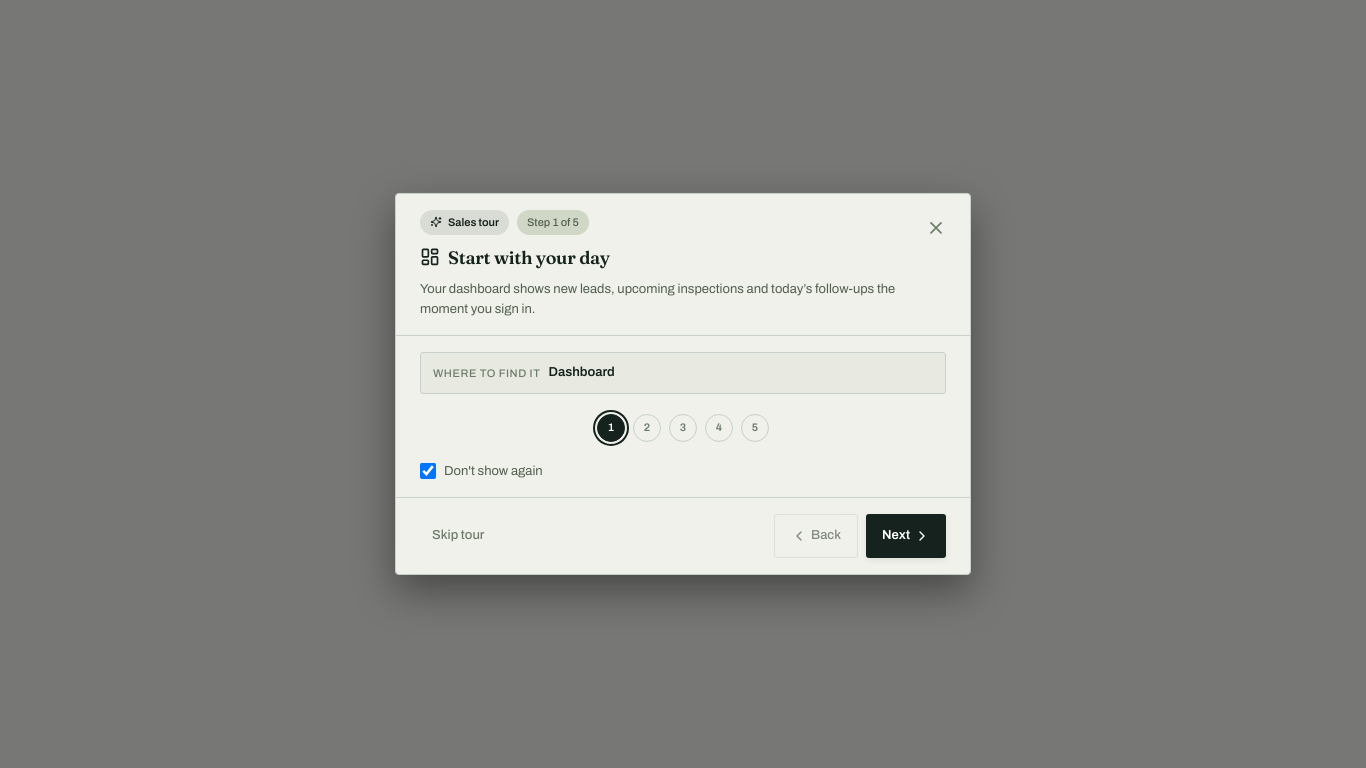
Test: OnboardingTour › opens through startOnboarding() as an accessible modal dialog
Expected: the heading "Start with your day" is shown, x1=420 y1=246 x2=610 y2=268
Expected: the text "Step 1 of 5" is shown, x1=517 y1=210 x2=589 y2=234
What coordinates should you click on to do the following:
click the button "Next"
I would click on:
 (906, 536)
Its box is x1=866 y1=514 x2=946 y2=558.
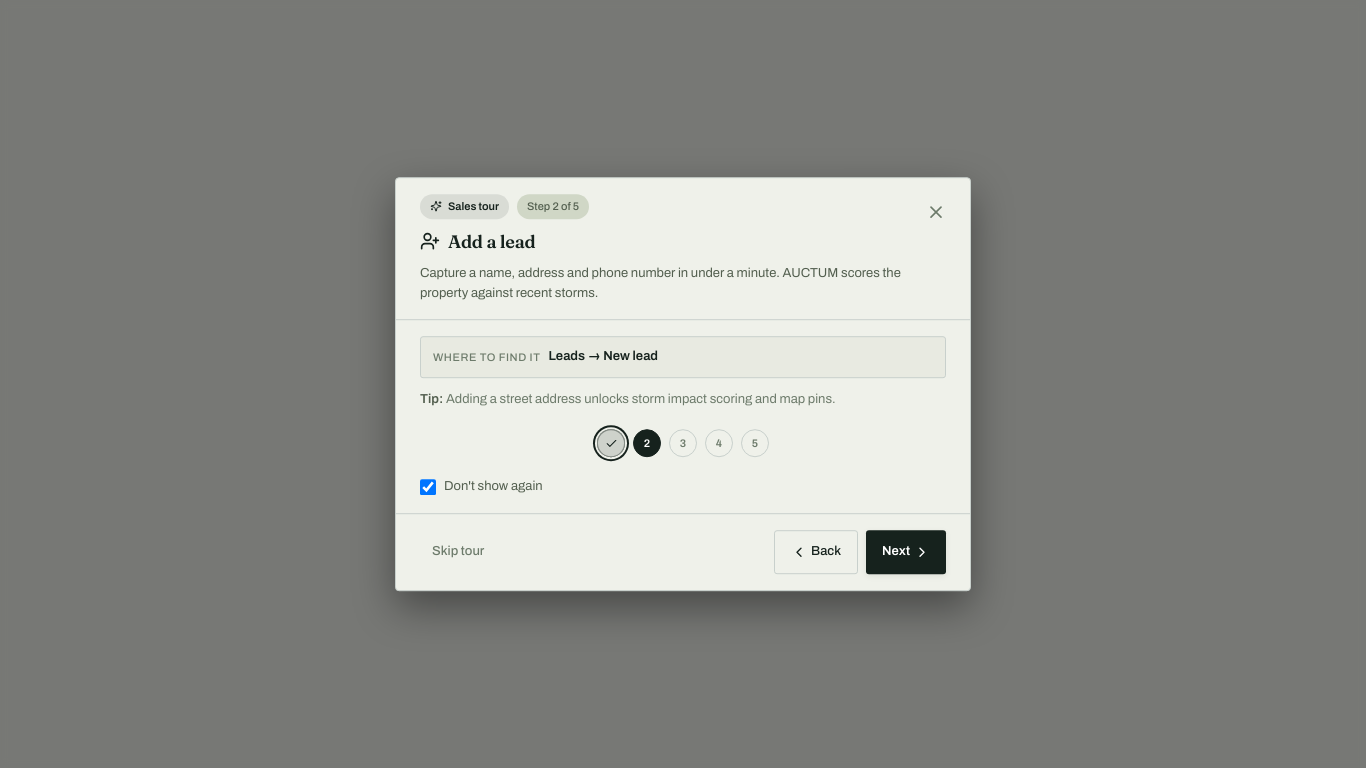
Expected: the heading "Add a lead" is shown, x1=420 y1=230 x2=535 y2=253
Expected: the text "Step 2 of 5" is shown, x1=517 y1=194 x2=589 y2=219
Expected: the text "Leads → New lead" is shown, x1=548 y1=347 x2=658 y2=367
